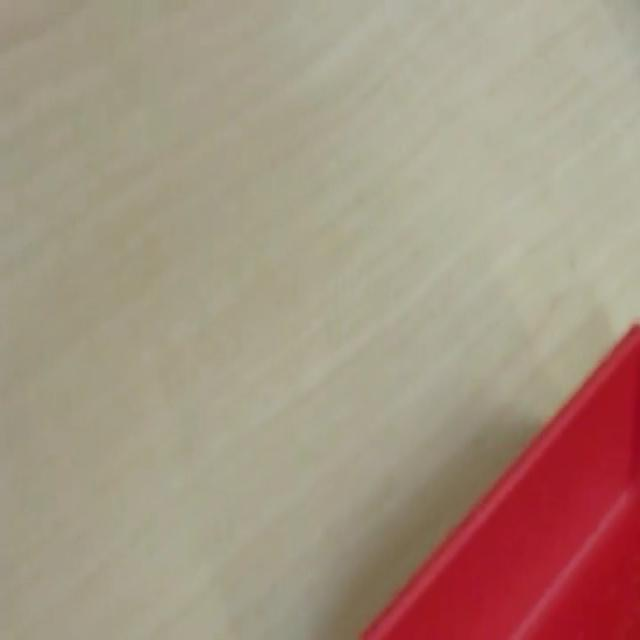red_block: (357, 319, 639, 637)
